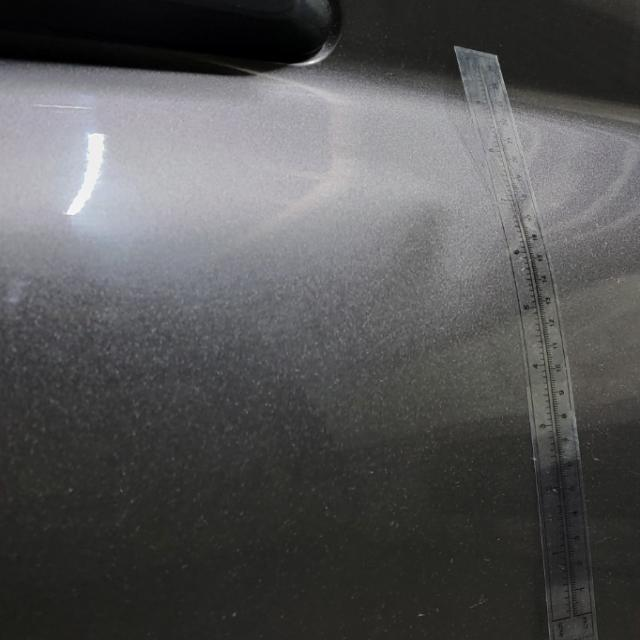dents: (381, 184, 488, 318)
